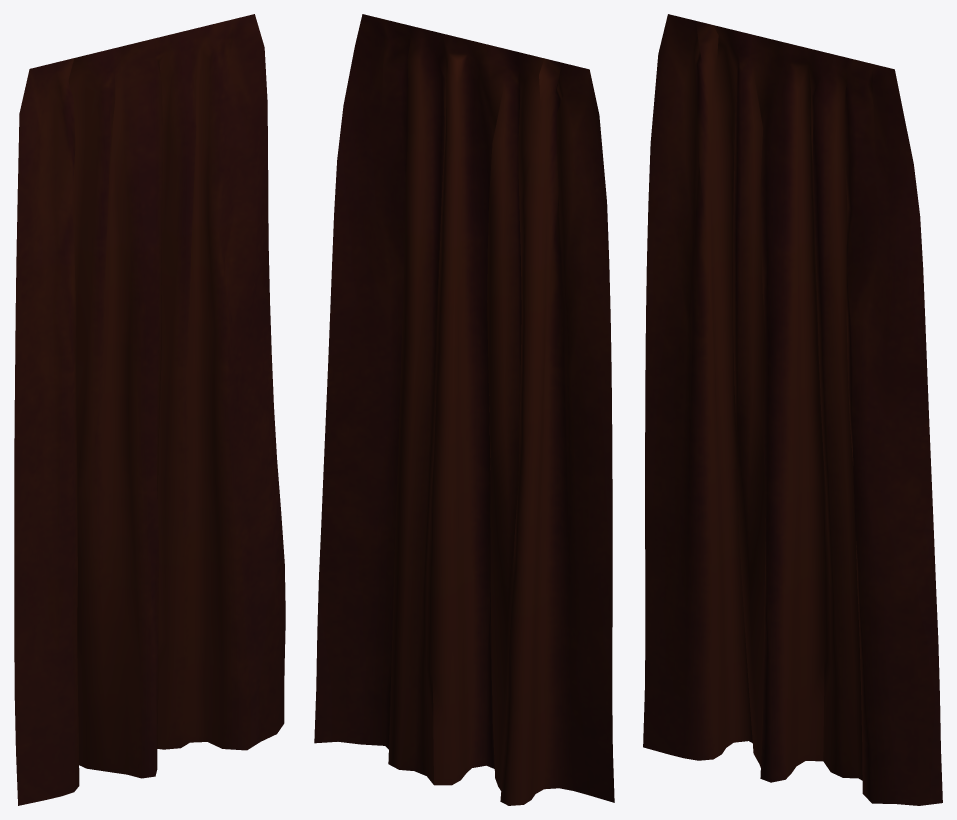
Rendered from Curtain.fbx.
3 views of the same model, side by side, from view 1: azimuth 30°, elevation 25°; view 2: azimuth 150°, elevation 25°; view 3: azimuth 330°, elevation 25° (orthographic).
Visible parts, largest first — view 1: Curtain; view 2: Curtain; view 3: Curtain.
Part boxes in pixels (x1,y1,x2,y2): Curtain: (14, 14, 285, 805); Curtain: (314, 14, 614, 805); Curtain: (643, 14, 942, 805).
Bounding box in the file's own units: 2.15 × 5.28 × 0.4778.
